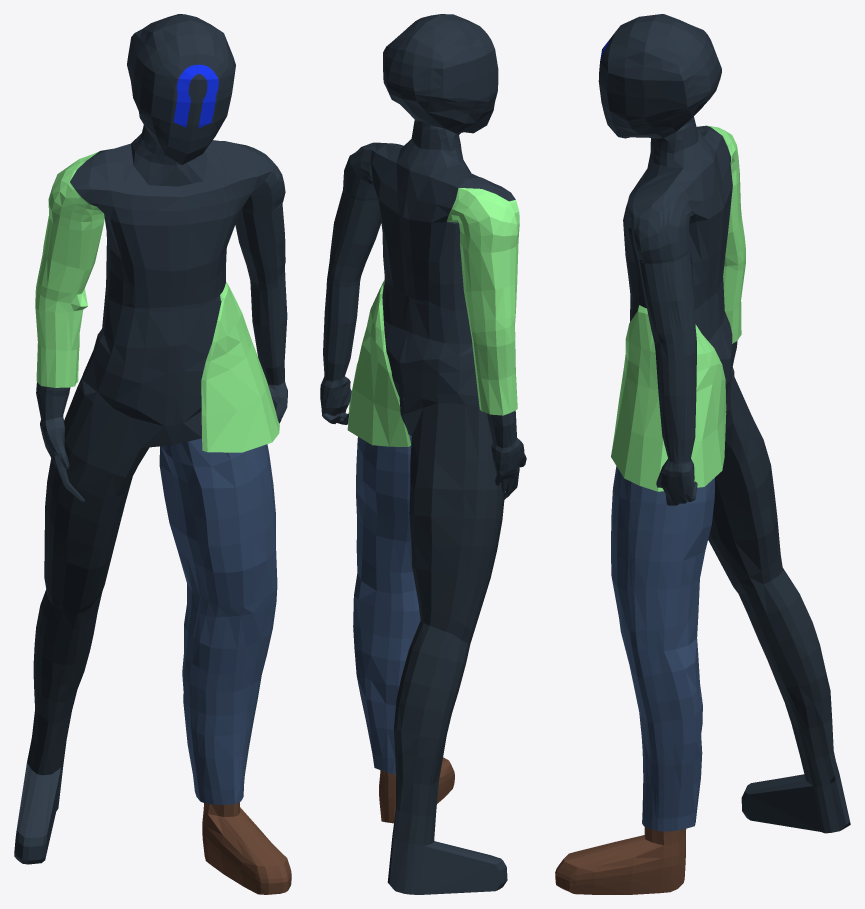
File: Mar_Recover_000012.obj
The picture shows the model from 3 angles, left to right: view 1: azimuth 30°, elevation 25°; view 2: azimuth 150°, elevation 25°; view 3: azimuth 270°, elevation 25°; orthographic projection. The views are drawn at different scales.
Parts seen in each view (by area): view 1: Cube.000_Cube.001; view 2: Cube.000_Cube.001; view 3: Cube.000_Cube.001.
Boxes of the visible parts, bbox=[...] form: Cube.000_Cube.001: bbox=[14, 14, 291, 894]; Cube.000_Cube.001: bbox=[320, 14, 526, 894]; Cube.000_Cube.001: bbox=[555, 14, 850, 894].
Size of the model in its own units: 1.1 by 3.92 by 1.24.
